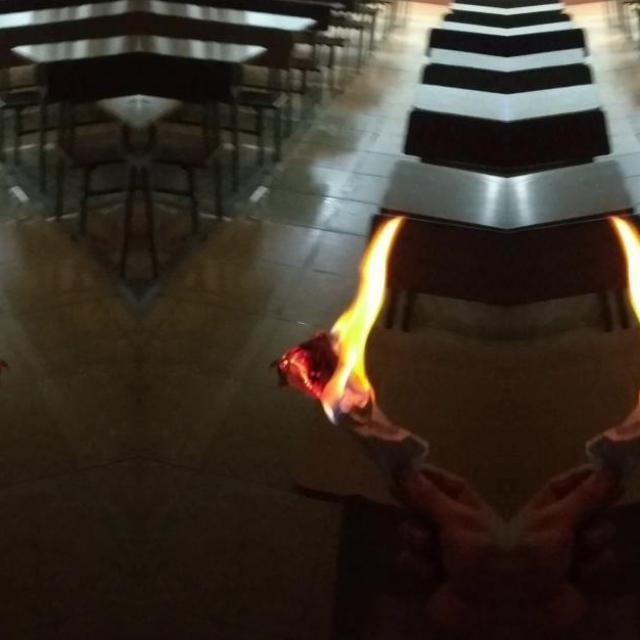smoke: (321, 212, 407, 424), (607, 212, 640, 424)
